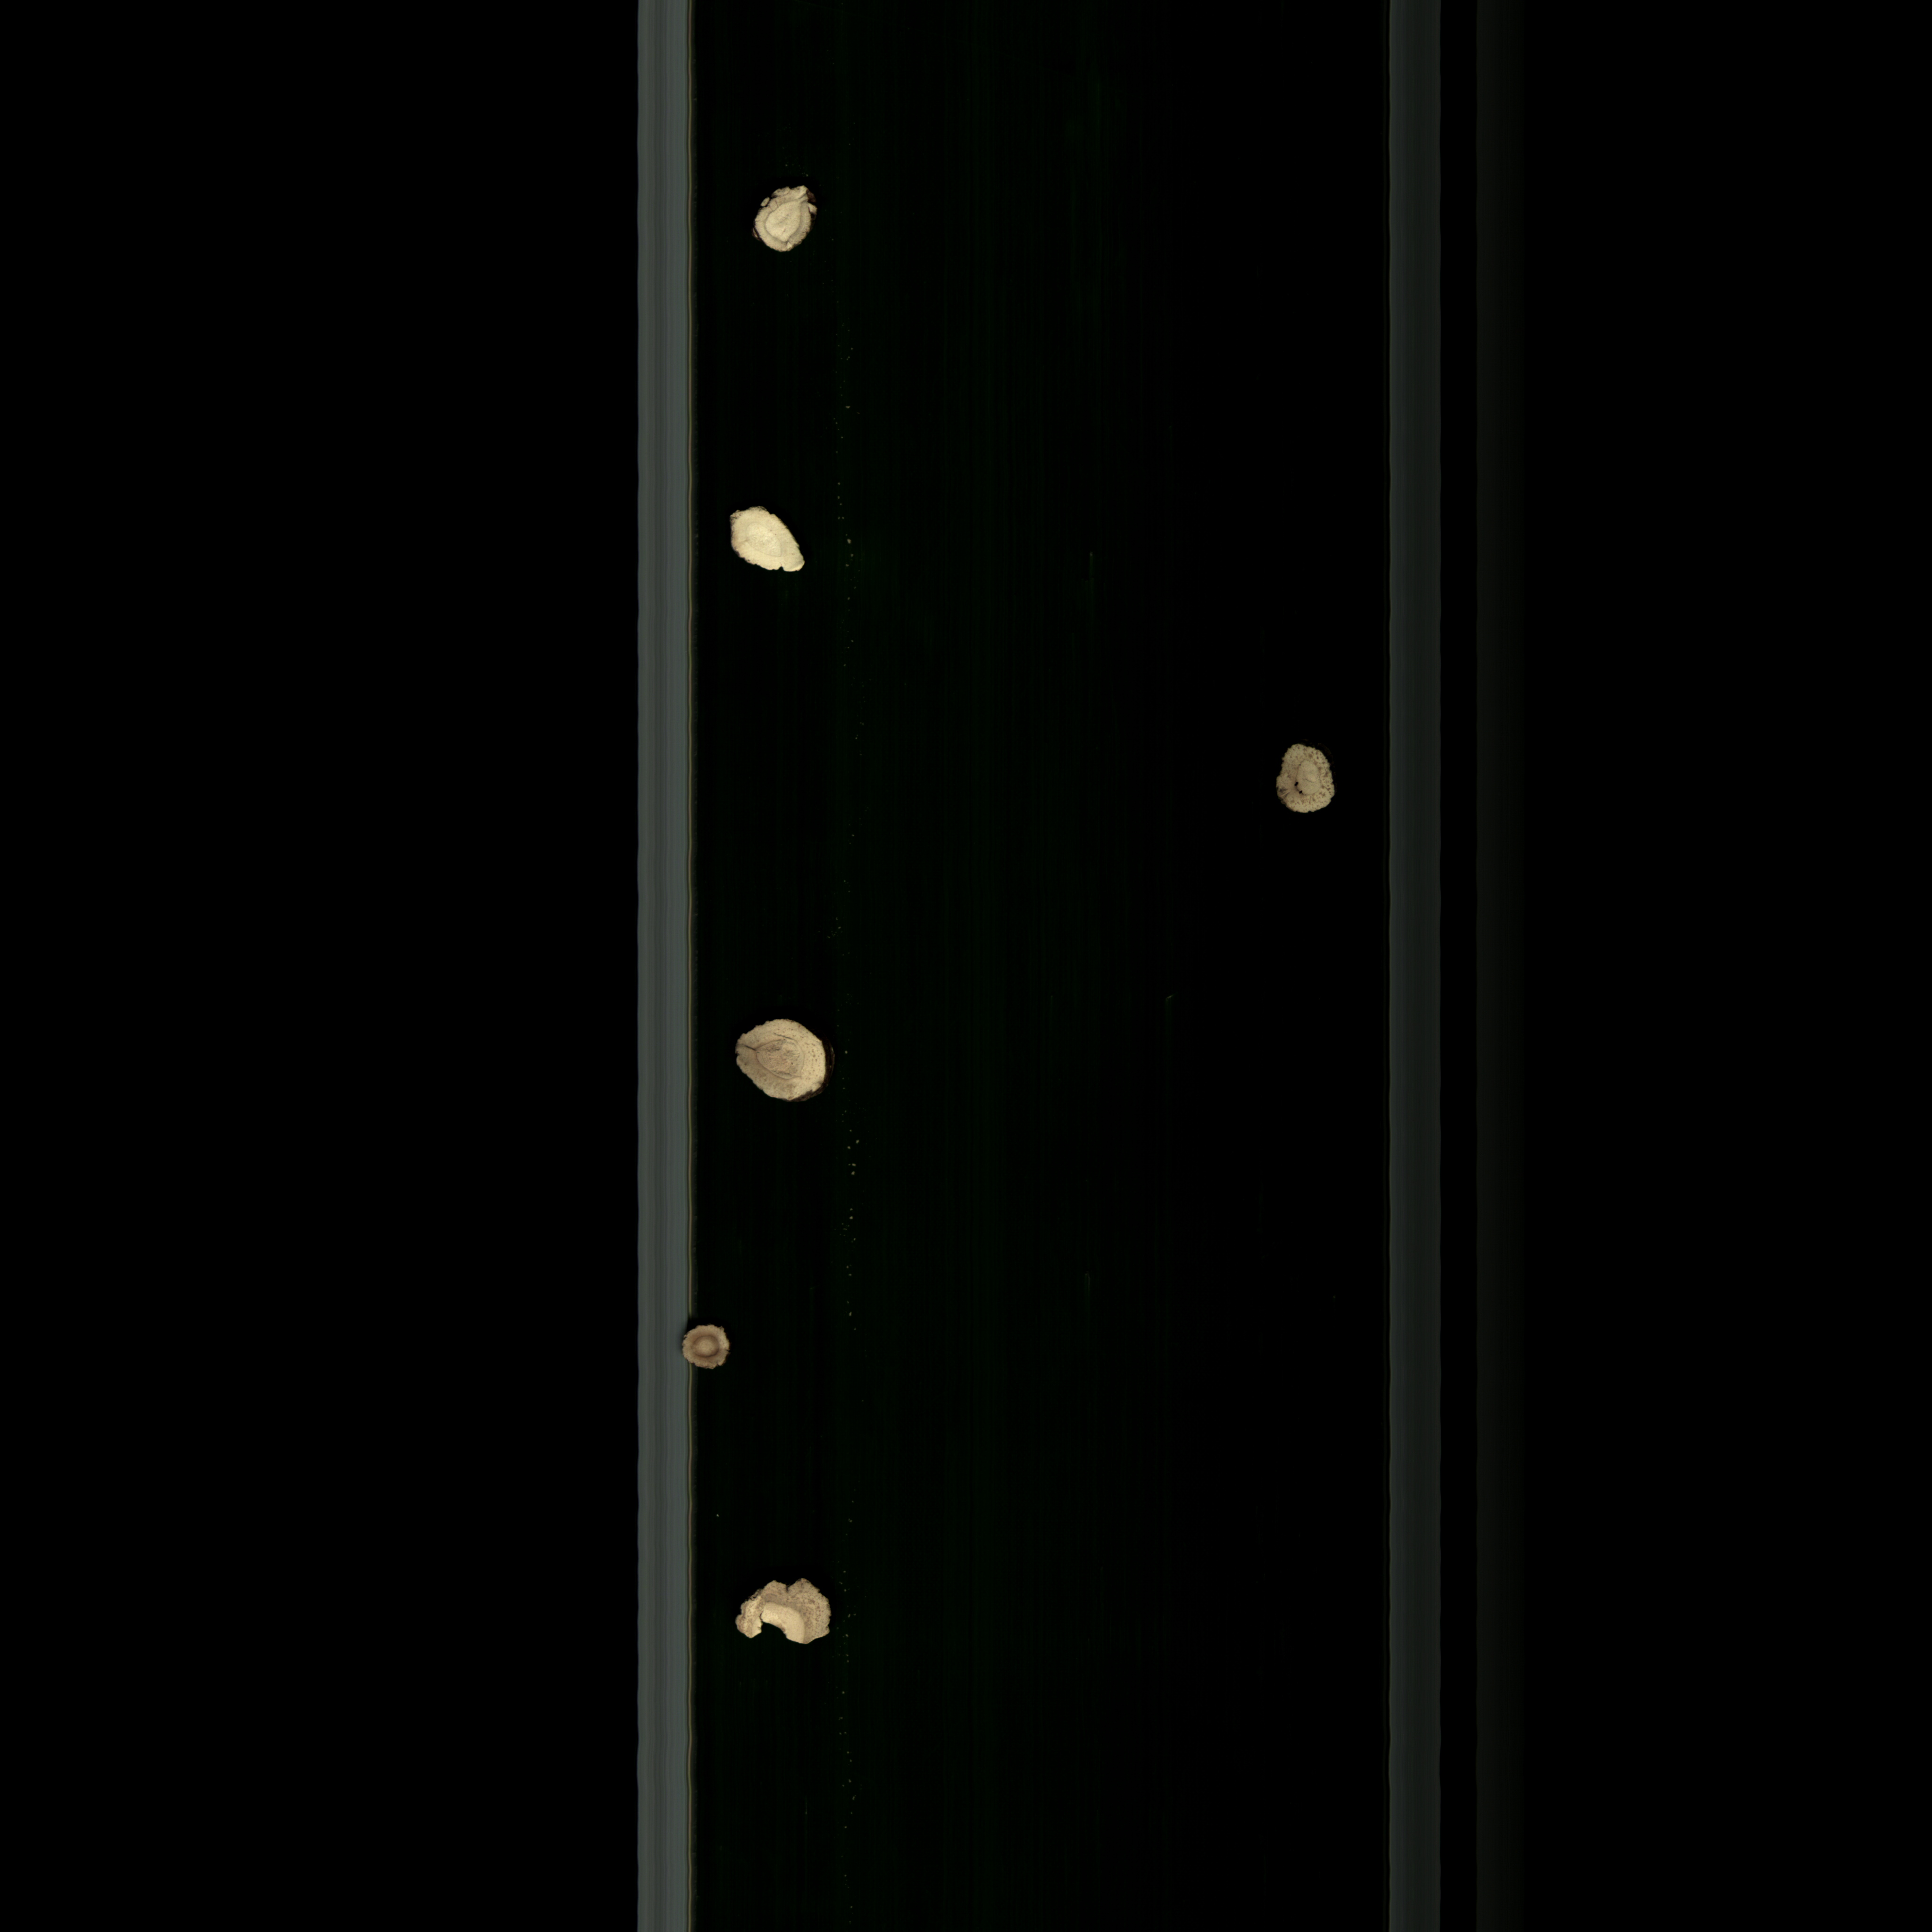debris: (720, 1562, 856, 1670)
distortion: (718, 494, 821, 586), (741, 170, 832, 265)
hole: (1269, 725, 1373, 830)
moldy: (676, 1316, 743, 1380)
